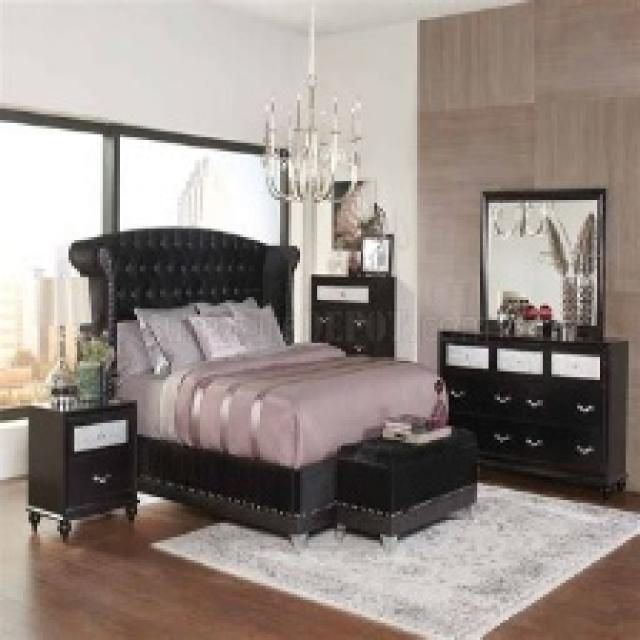Bed: (66, 226, 451, 548)
